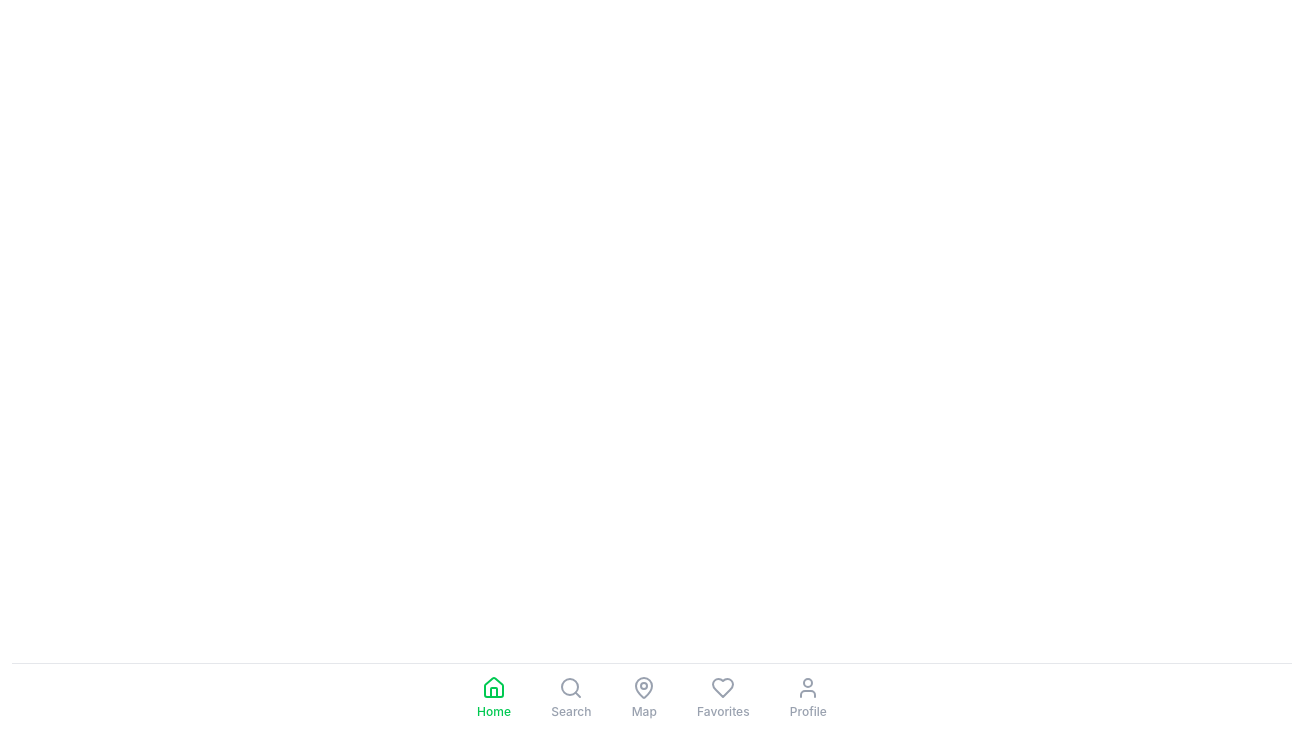
it: BottomNav › navigates to the selected application section
Click the button "Map" at (644, 698), box [620,672,669,724]
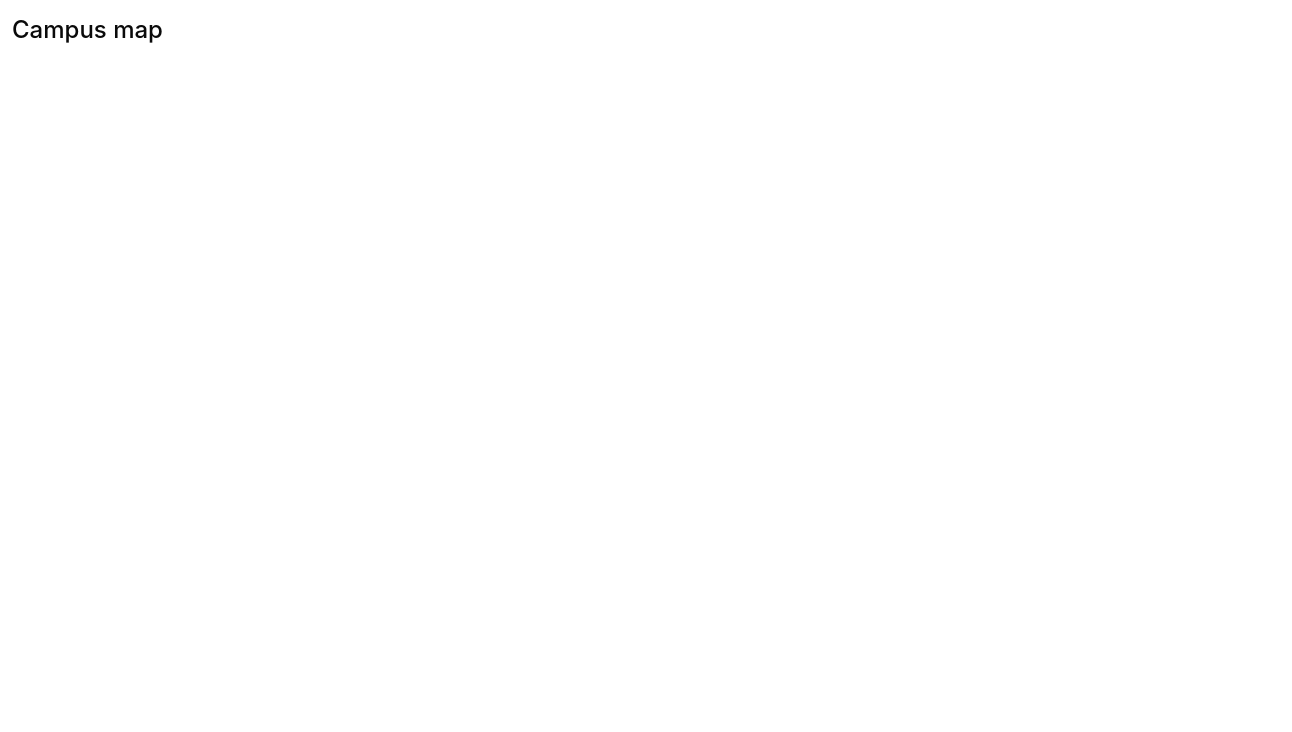
Expected: the heading "Campus map" is shown, [12,15,163,44]
